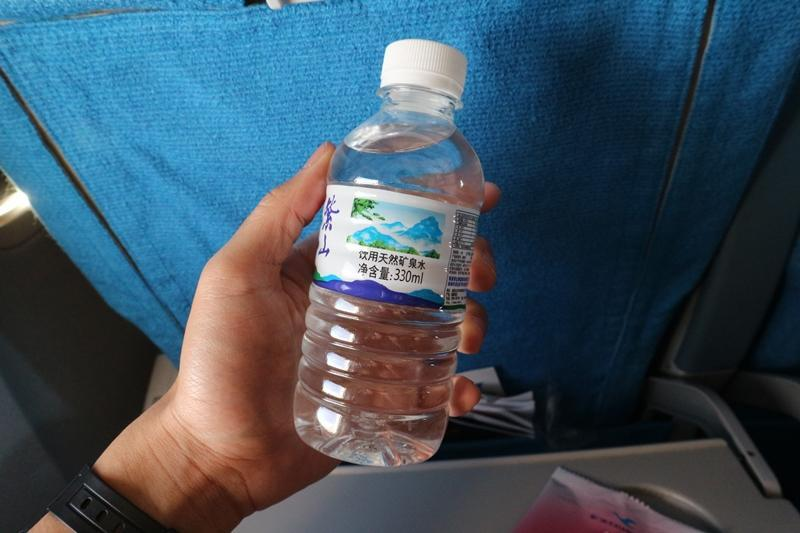bottle: (283, 28, 493, 472)
